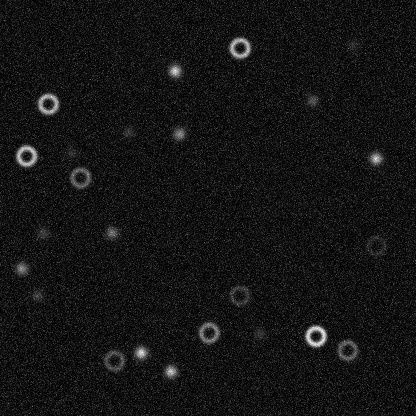Ring: (227, 283, 251, 307), (335, 338, 359, 362), (68, 165, 92, 189), (364, 233, 388, 257), (227, 35, 251, 59), (36, 91, 60, 115), (14, 143, 38, 167), (196, 320, 220, 344), (102, 348, 126, 372), (303, 323, 327, 347)
Spot: (34, 225, 50, 241), (120, 124, 136, 140), (63, 144, 79, 160), (13, 260, 29, 276), (367, 150, 383, 166), (171, 125, 187, 141), (29, 287, 45, 303), (251, 325, 267, 341), (132, 344, 148, 360), (166, 62, 182, 78), (103, 224, 119, 240), (304, 92, 320, 108), (162, 363, 178, 379), (345, 36, 361, 52)
